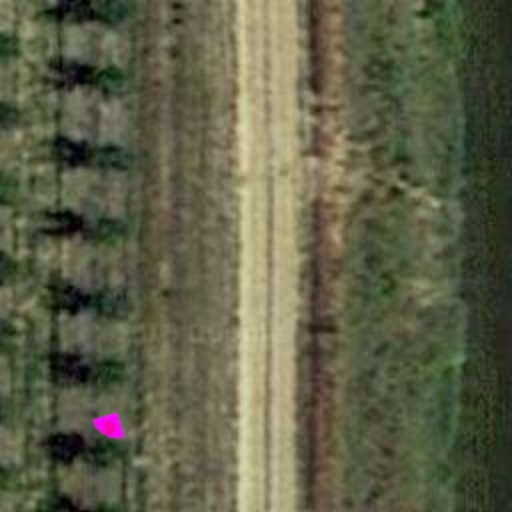quarter_circle: (86, 402, 134, 450)
